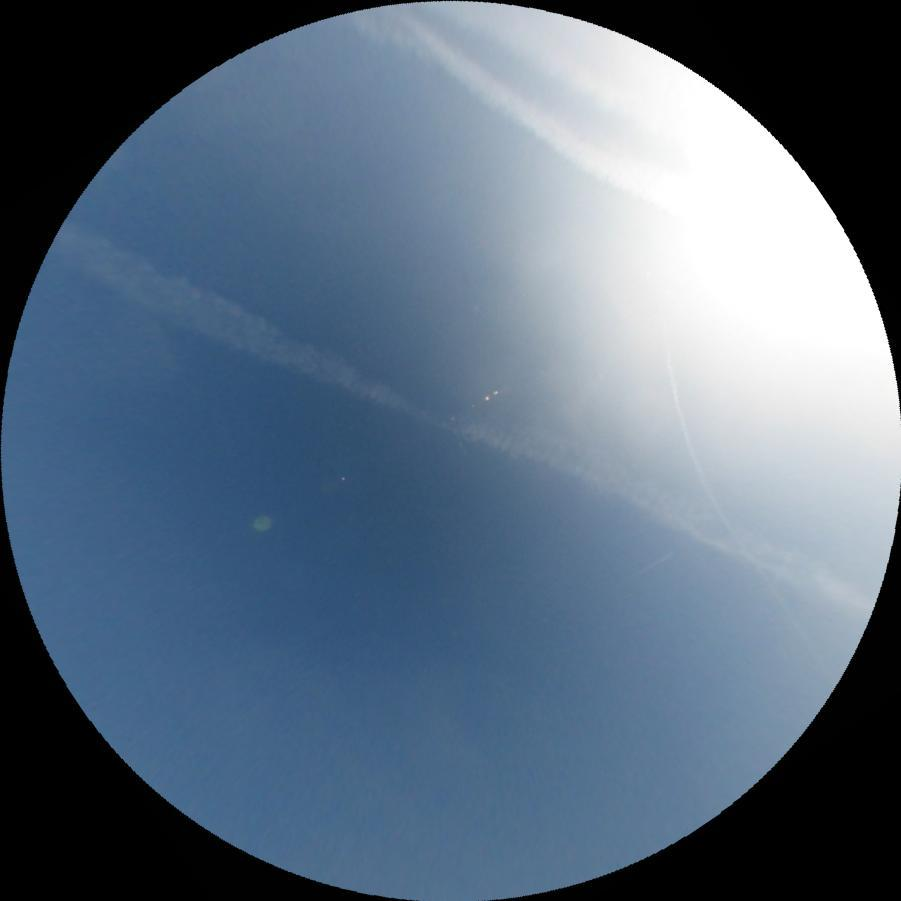contrail veryold: (43, 214, 886, 631), (340, 0, 630, 205)
contrail young: (643, 346, 827, 689), (619, 547, 677, 587)
sun: (663, 151, 897, 395)
